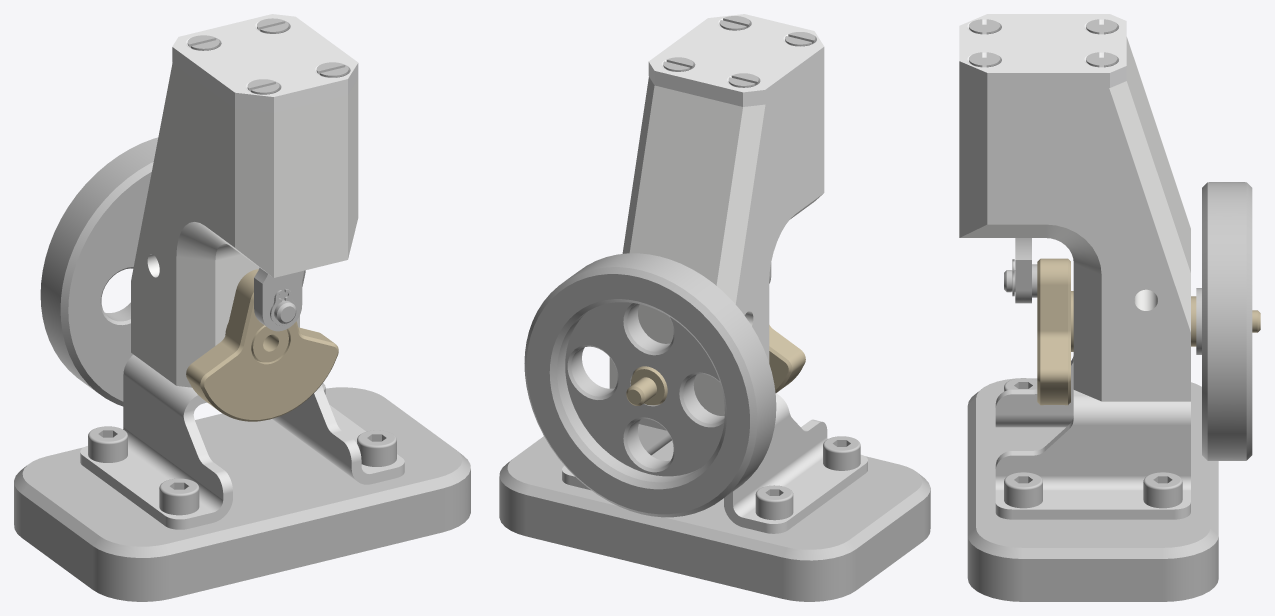
File: Druckluftmotor.glb
3 renders of one model, left to right at view 1: azimuth 30°, elevation 25°; view 2: azimuth 150°, elevation 25°; view 3: azimuth 270°, elevation 25°, orthographic. The views are drawn at different scales.
Parts seen in each view (by area): view 1: Grundplatte, Body1.001, Body1.008, Body1, Body1.009, Body1.003, Body1.006, Body1.012, Body1.013, Body1.015, Body1.004; view 2: Body1.008, Body1.001, Grundplatte, Body1.009, Body1, Body1.003, Body1.004, Body1.013, Body1.012; view 3: Body1.001, Grundplatte, Body1, Body1.008, Body1.009, Body1.003, Body1.014, Body1.015, Body1.006, Body1.004, Body1.005.
Boxes of the visible parts, bbox=[...] form: Grundplatte: bbox=[14, 387, 470, 601]; Body1.001: bbox=[131, 63, 358, 387]; Body1.008: bbox=[40, 137, 305, 406]; Body1: bbox=[80, 354, 404, 529]; Body1.009: bbox=[172, 14, 358, 112]; Body1.003: bbox=[186, 269, 338, 421]; Body1.006: bbox=[254, 267, 302, 331]; Body1.012: bbox=[159, 478, 199, 515]; Body1.013: bbox=[88, 426, 127, 462]; Body1.015: bbox=[357, 430, 396, 466]; Body1.004: bbox=[251, 325, 288, 362]; Body1.008: bbox=[524, 253, 776, 517]; Body1.001: bbox=[609, 61, 824, 415]; Grundplatte: bbox=[499, 436, 930, 601]; Body1.009: bbox=[648, 14, 824, 106]; Body1: bbox=[562, 393, 867, 533]; Body1.003: bbox=[769, 325, 805, 392]; Body1.004: bbox=[626, 366, 667, 405]; Body1.013: bbox=[755, 485, 793, 520]; Body1.012: bbox=[823, 436, 860, 470]; Body1.001: bbox=[959, 37, 1190, 401]; Grundplatte: bbox=[967, 378, 1218, 601]; Body1: bbox=[995, 356, 1190, 519]; Body1.008: bbox=[1196, 182, 1252, 460]; Body1.009: bbox=[959, 14, 1126, 87]; Body1.003: bbox=[1037, 258, 1073, 405]; Body1.014: bbox=[1143, 472, 1182, 508]; Body1.015: bbox=[1004, 472, 1042, 508]; Body1.006: bbox=[1015, 238, 1031, 303]; Body1.004: bbox=[1191, 296, 1260, 346]; Body1.005: bbox=[1004, 264, 1037, 297].
Size of the model in its own units: 0.075 by 0.0932 by 0.054.
